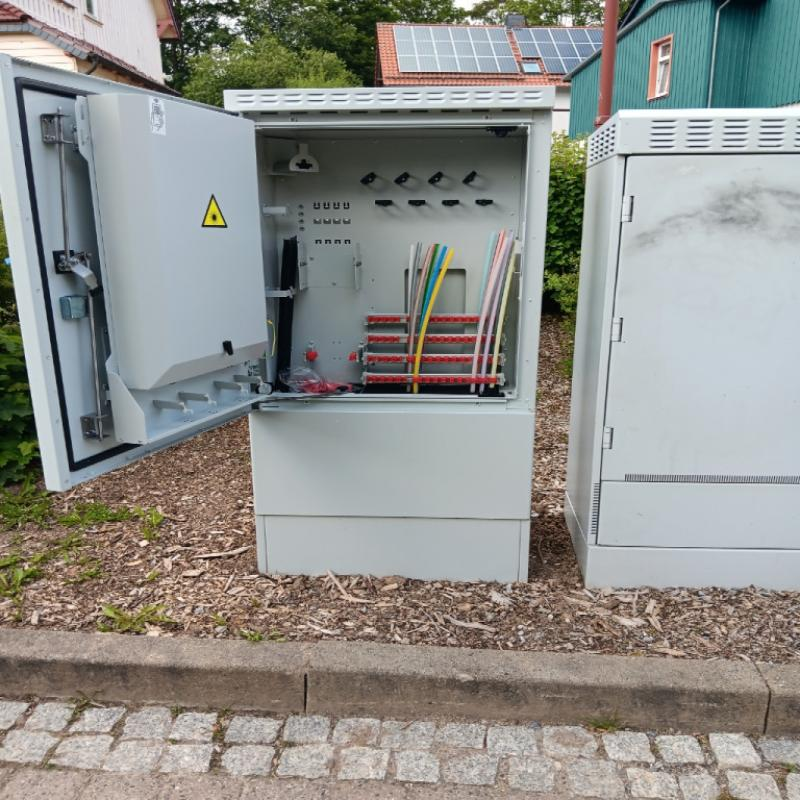NT-Gehause: (0, 53, 556, 585), (564, 111, 800, 593)
